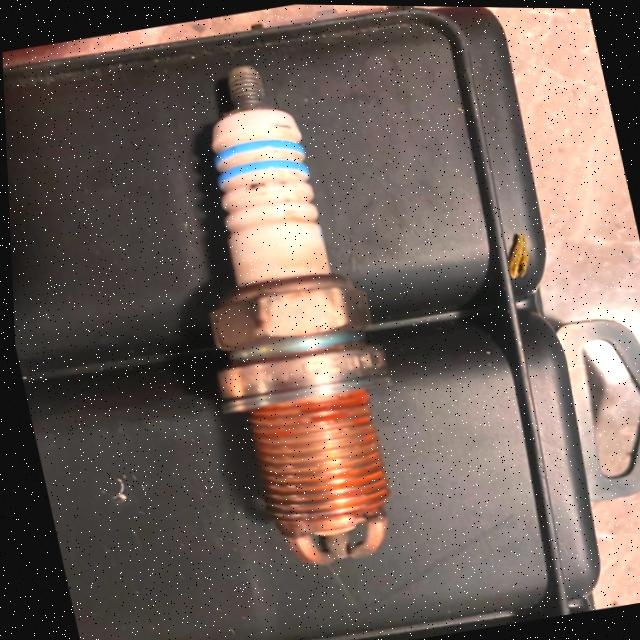spark-plug: (128, 33, 430, 597)
